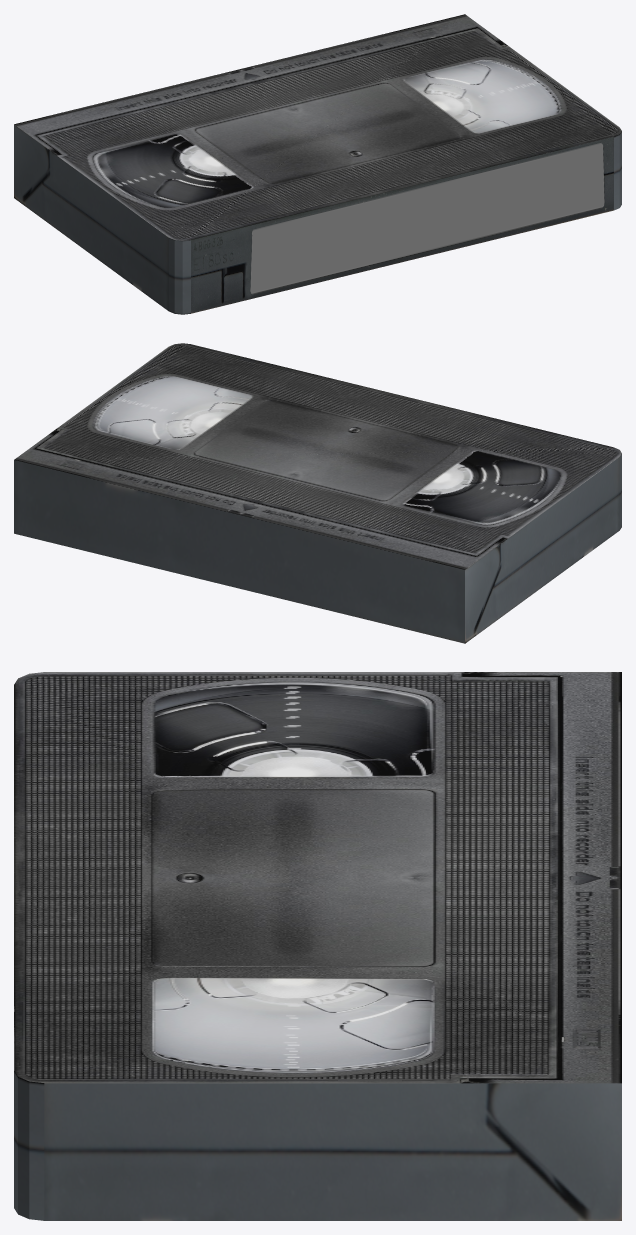
File: VHS_1.fbx
3 views of the same model, one above another, from view 1: azimuth 30°, elevation 25°; view 2: azimuth 150°, elevation 25°; view 3: azimuth 270°, elevation 25° (orthographic). The views are drawn at different scales.
Visible parts, largest first — view 1: Cube; view 2: Cube; view 3: Cube.
Boxes of the visible parts, x1,y1,x2,y2 form: Cube: [14, 14, 621, 314]; Cube: [14, 343, 621, 643]; Cube: [14, 672, 621, 1220].
Bounding box in the file's own units: 640 × 100 × 400.
1 material, 1 textured.
